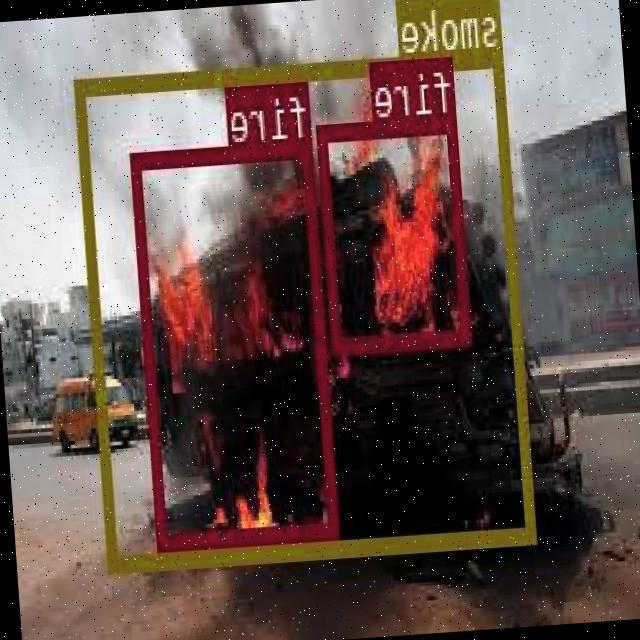fire: (133, 137, 340, 546), (318, 113, 473, 352)
smoke: (76, 47, 538, 570)
